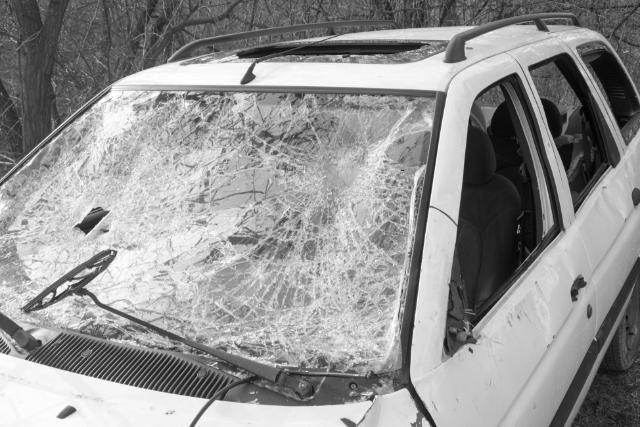Windshield: (0, 89, 449, 410)
